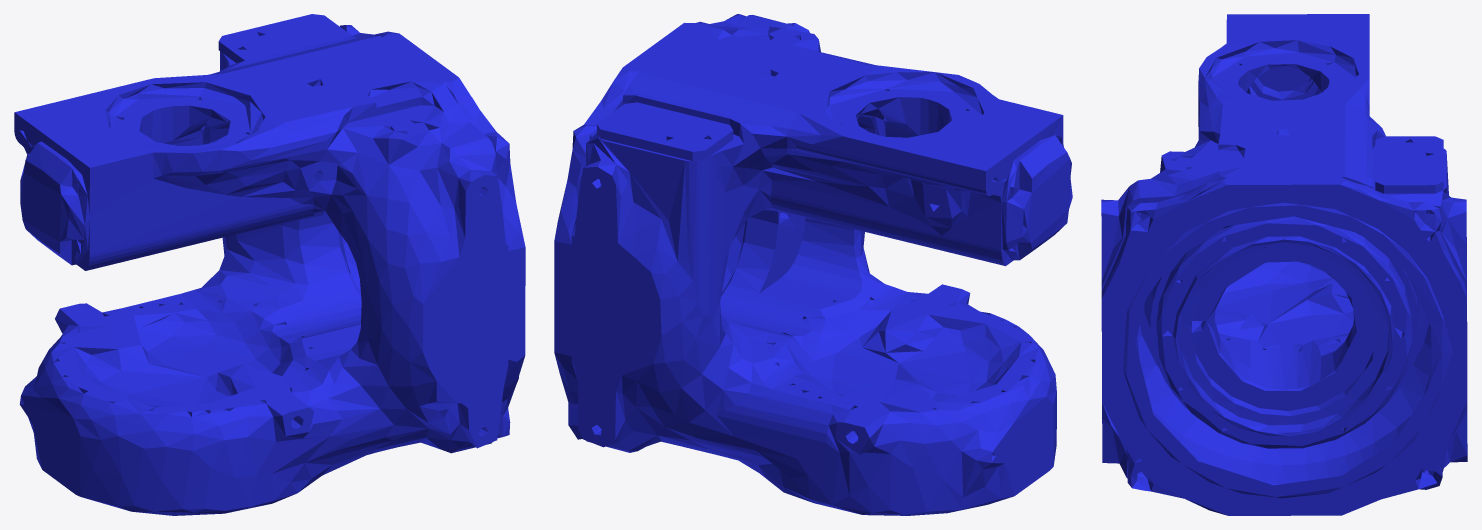
The picture shows the model from 3 angles, left to right: view 1: azimuth 30°, elevation 25°; view 2: azimuth 150°, elevation 25°; view 3: azimuth 270°, elevation 25°; orthographic projection. The views are drawn at different scales.
Parts seen in each view (by area): view 1: /Link5/Link5_002-mesh/0; view 2: /Link5/Link5_002-mesh/0; view 3: /Link5/Link5_002-mesh/0.
Part boxes in pixels (<box>): /Link5/Link5_002-mesh/0: <box>14,14,525,515</box>; /Link5/Link5_002-mesh/0: <box>554,14,1072,515</box>; /Link5/Link5_002-mesh/0: <box>1101,14,1467,515</box>.
Bounding box in the file's own units: 0.1488 × 0.1371 × 0.1283.
